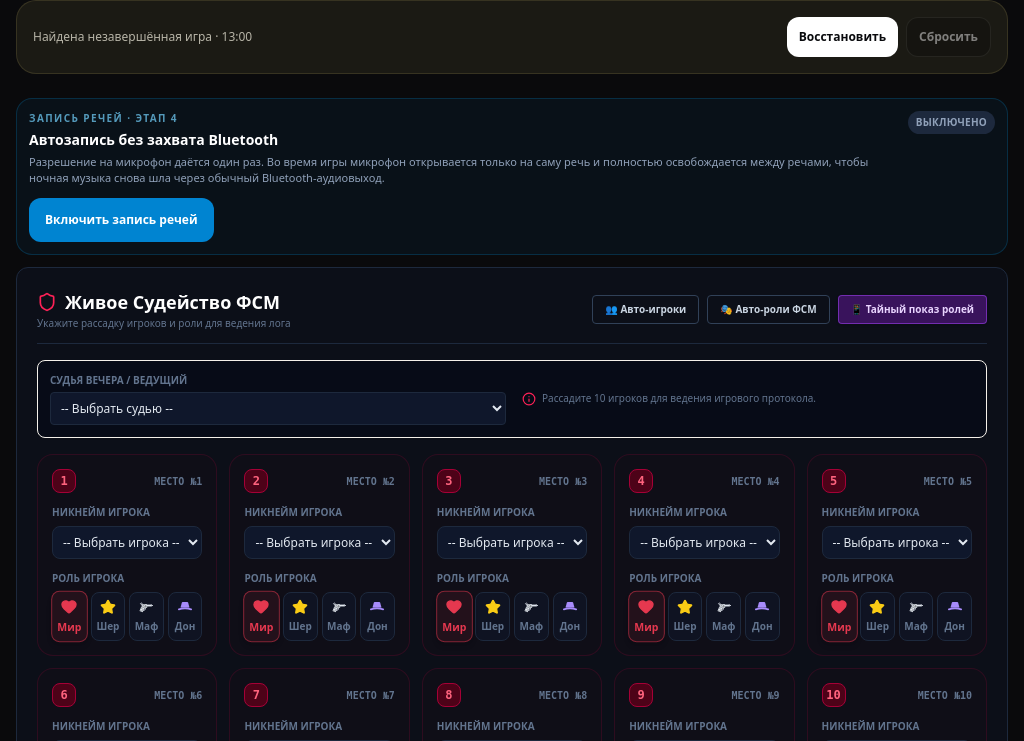
Live Game voting: player actions and zero-round split › a plain tap on a seat still votes
What coordinates should you click on to do the following:
click the button "Восстановить"
I would click on:
 (842, 37)
Its box is [787,17,898,57].
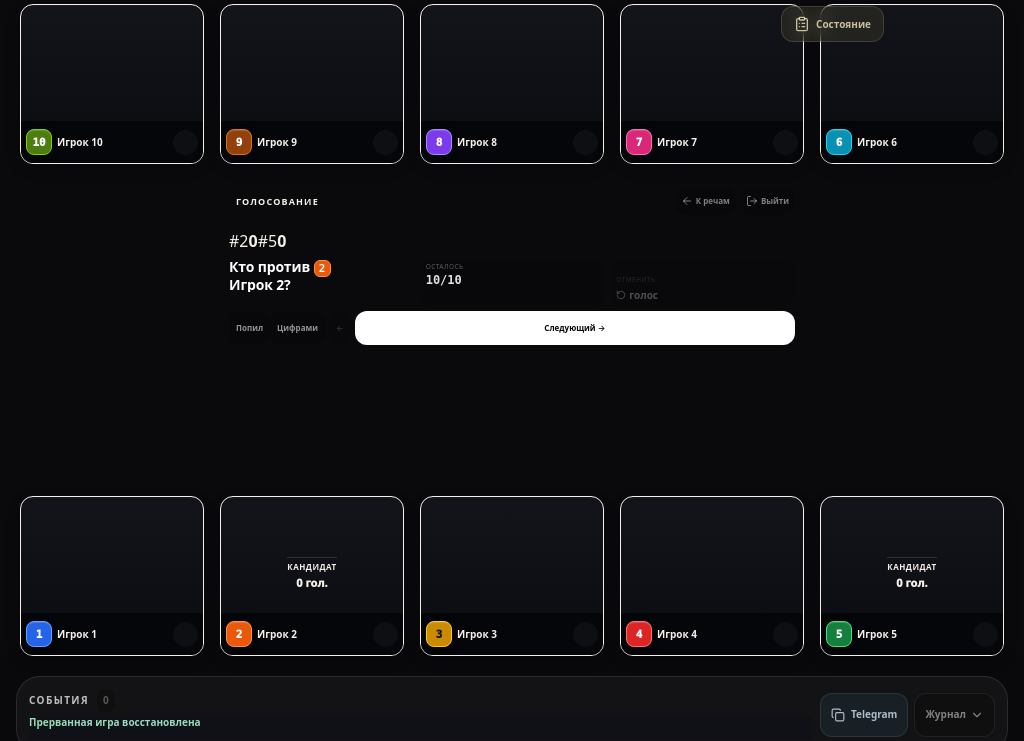
Expected: the text "Кто против 2" is shown, [229,257,331,276]
What coordinates should you click on to do the following:
click the element showing "6 Игрок 6"
I would click on:
 (912, 84)
Its box is [820,4,1004,164].
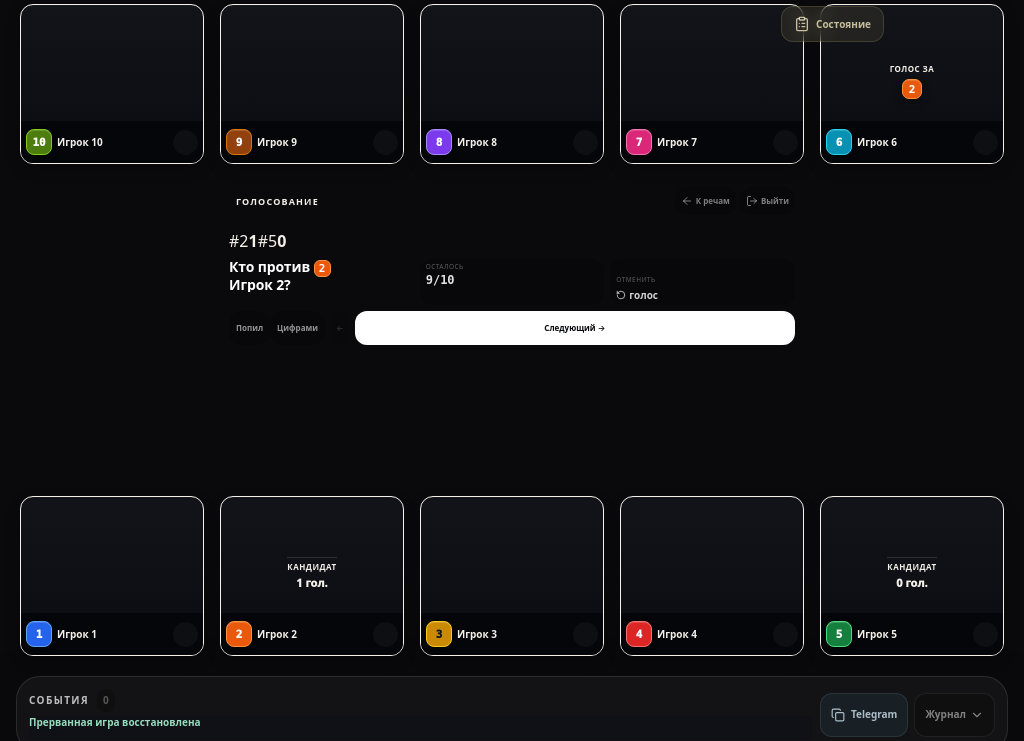
Expected: the element with test id "seat-vote-target-6" is shown, [902,79,922,99]
